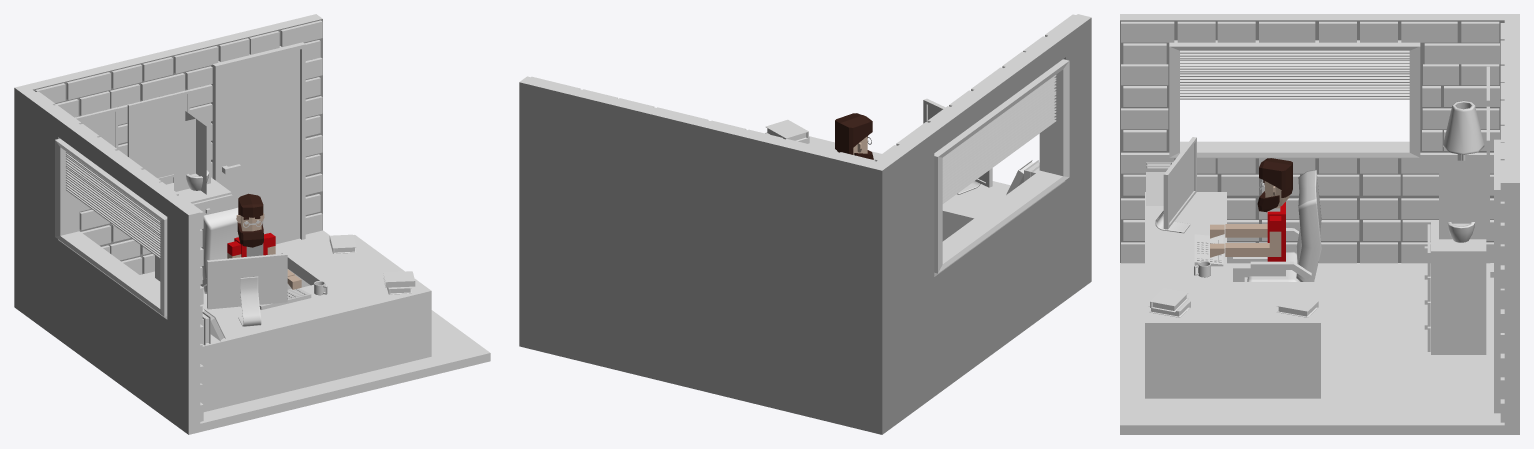
The model's file is Asset  room.fbx.
The picture shows the model from 3 angles, left to right: view 1: azimuth 30°, elevation 25°; view 2: azimuth 150°, elevation 25°; view 3: azimuth 270°, elevation 25°; orthographic projection. The views are drawn at different scales.
Visible parts, largest first — view 1: Cube.009, Plane, Plane.020, Cube.000, Cube.001, Plane.002, Plane.004, Plane.001, Plane.024, Cube.011, Circle.001, Cube.020 (+4 smaller); view 2: Cube.009, Cube.001, Plane.001, Plane, Cube.011, Cube.002, Cube.006, Plane.002; view 3: Cube.009, Cube.006, Plane, Plane.001, Cube.001, Cube.020, Cube.011, Plane.024, Circle.001, Plane.002, Cube.000, Plane.020 (+6 smaller).
Part boxes in pixels (left/top/right/bottom): Cube.009: left=14, top=14, right=490, bottom=434; Plane: left=200, top=235, right=431, bottom=411; Plane.020: left=211, top=42, right=305, bottom=244; Cube.000: left=35, top=20, right=322, bottom=274; Cube.001: left=55, top=138, right=167, bottom=316; Plane.002: left=207, top=253, right=287, bottom=326; Plane.004: left=127, top=90, right=189, bottom=180; Plane.001: left=66, top=151, right=160, bottom=258; Plane.024: left=174, top=111, right=210, bottom=194; Cube.011: left=227, top=193, right=301, bottom=289; Circle.001: left=200, top=207, right=263, bottom=293; Cube.020: left=155, top=177, right=232, bottom=289; Cube.009: left=519, top=14, right=1091, bottom=434; Cube.001: left=934, top=59, right=1069, bottom=273; Plane.001: left=942, top=75, right=1056, bottom=203; Plane: left=765, top=133, right=1010, bottom=241; Cube.011: left=835, top=113, right=873, bottom=159; Cube.002: left=765, top=119, right=1039, bottom=194; Cube.006: left=874, top=14, right=1075, bottom=161; Plane.002: left=923, top=98, right=992, bottom=194; Cube.009: left=1120, top=14, right=1519, bottom=434; Cube.006: left=1121, top=21, right=1499, bottom=263; Plane: left=1145, top=192, right=1320, bottom=398; Plane.001: left=1180, top=50, right=1409, bottom=99; Cube.001: left=1169, top=40, right=1420, bottom=157; Cube.020: left=1424, top=222, right=1486, bottom=354; Cube.011: left=1210, top=158, right=1292, bottom=281; Plane.024: left=1439, top=160, right=1488, bottom=240; Circle.001: left=1247, top=170, right=1321, bottom=281; Plane.002: left=1155, top=137, right=1196, bottom=233; Cube.000: left=1500, top=23, right=1504, bottom=422; Plane.020: left=1490, top=139, right=1500, bottom=413.
Size of the model in its own units: 308 by 212 by 305.
